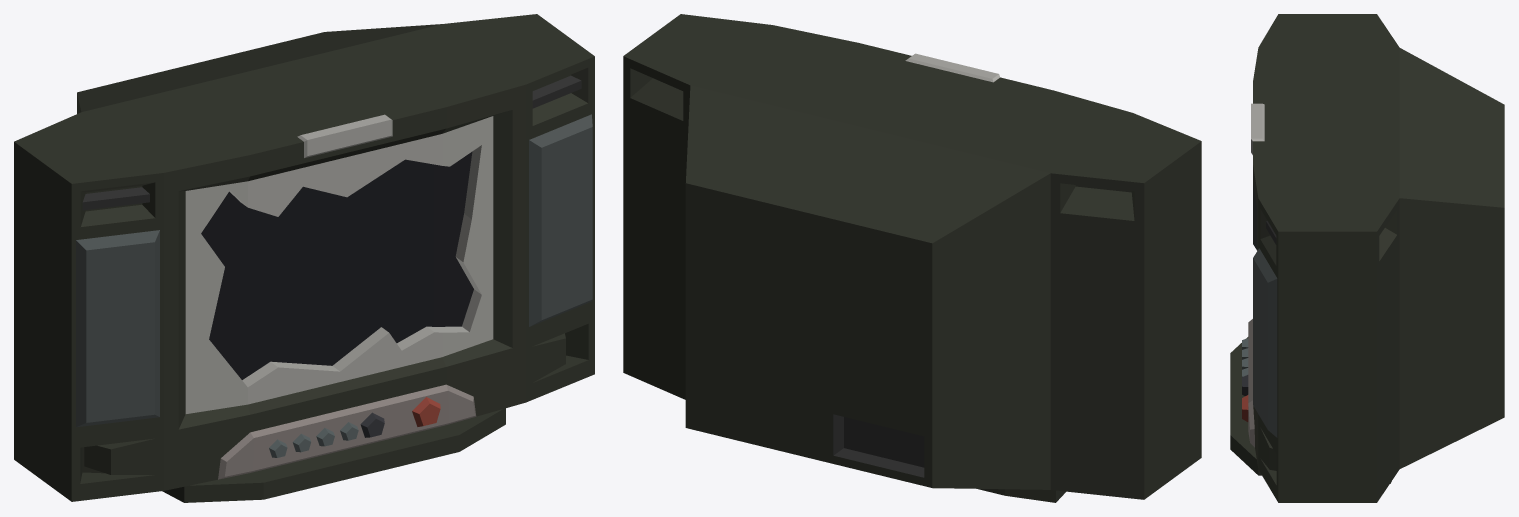
The picture shows the model from 3 angles, left to right: view 1: azimuth 30°, elevation 25°; view 2: azimuth 150°, elevation 25°; view 3: azimuth 270°, elevation 25°; orthographic projection. The views are drawn at different scales.
Parts seen in each view (by area): view 1: SM_TV; view 2: SM_TV; view 3: SM_TV.
Part boxes in pixels (left/top/right/bottom): SM_TV: left=14, top=14, right=594, bottom=502; SM_TV: left=623, top=14, right=1201, bottom=502; SM_TV: left=1230, top=14, right=1504, bottom=502.
Bounding box in the file's own units: 115 × 71.01 × 61.45.
